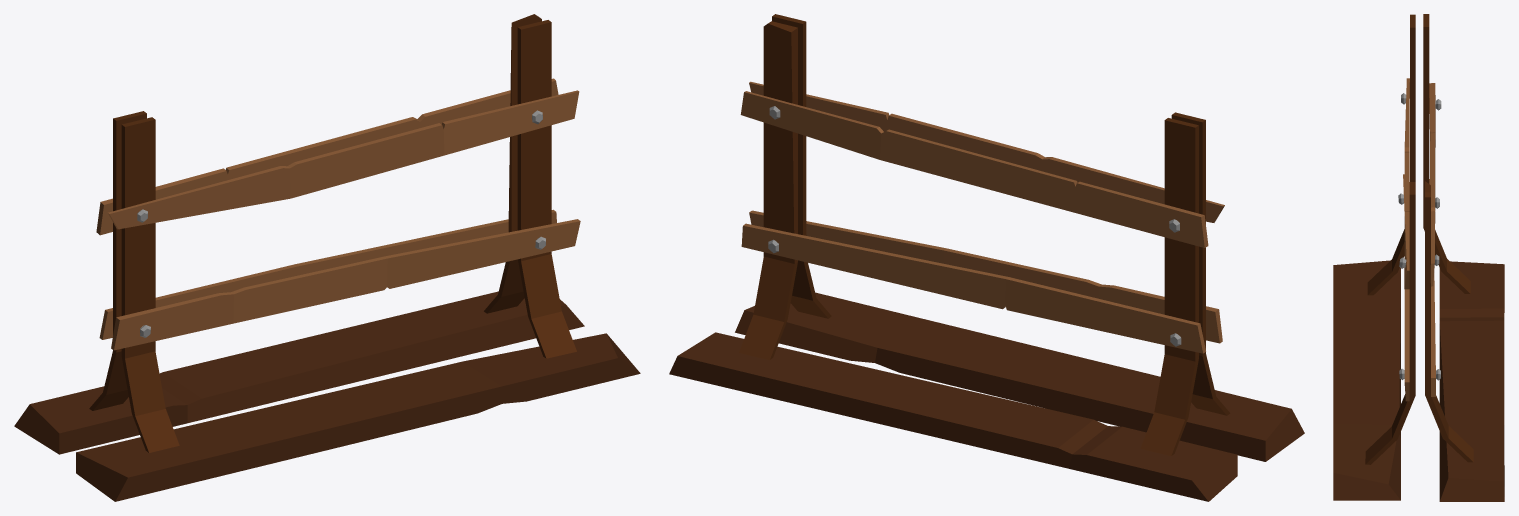
Rendered from Board_Weapons.fbx.
3 views of the same model, side by side, from view 1: azimuth 30°, elevation 25°; view 2: azimuth 150°, elevation 25°; view 3: azimuth 270°, elevation 25° (orthographic). The views are drawn at different scales.
Parts seen in each view (by area): view 1: Cube.004, Cube.006, Cube; view 2: Cube.004, Cube.006, Cube; view 3: Cube.004, Cube, Cube.006, Circle.
Boxes of the visible parts, box(x1,y1,x2,y2) form: Cube.004: box(14, 291, 640, 501); Cube.006: box(96, 78, 580, 350); Cube: box(89, 14, 576, 452); Cube.004: box(669, 292, 1304, 501); Cube.006: box(740, 81, 1224, 353); Cube: box(739, 14, 1230, 455); Cube.004: box(1333, 260, 1504, 501); Cube: box(1365, 14, 1473, 464); Cube.006: box(1403, 78, 1435, 401); Circle: box(1398, 93, 1441, 380).
Size of the model in its own units: 250 by 148 by 80.
